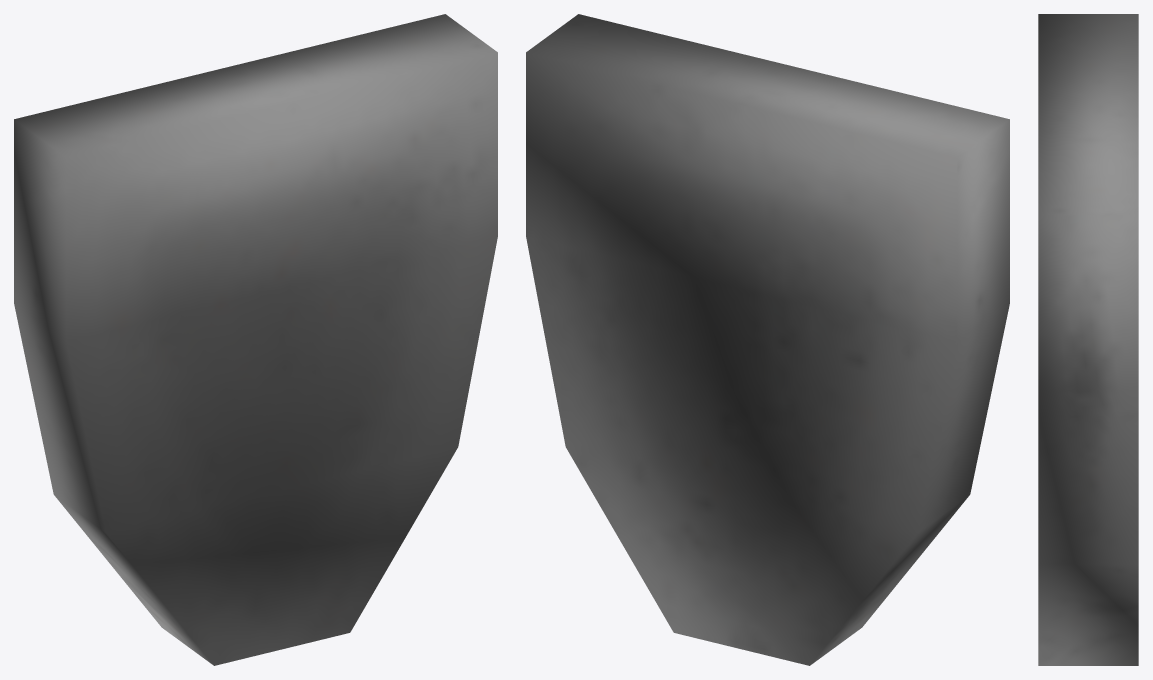
Rendered from StrapTail_Full.fbx.
3 renders of one model, left to right at view 1: azimuth 30°, elevation 25°; view 2: azimuth 150°, elevation 25°; view 3: azimuth 270°, elevation 25°, orthographic. The views are drawn at different scales.
Visible parts, largest first — view 1: StrapTail_Full_LOD0; view 2: StrapTail_Full_LOD0; view 3: StrapTail_Full_LOD0.
Part boxes in pixels (x1=…): StrapTail_Full_LOD0: x1=14, y1=14, x2=497, y2=665; StrapTail_Full_LOD0: x1=526, y1=14, x2=1009, y2=665; StrapTail_Full_LOD0: x1=1038, y1=14, x2=1138, y2=665.
Size of what is drawn, in the model's own units: 14.01 by 16.89 by 2.95.
